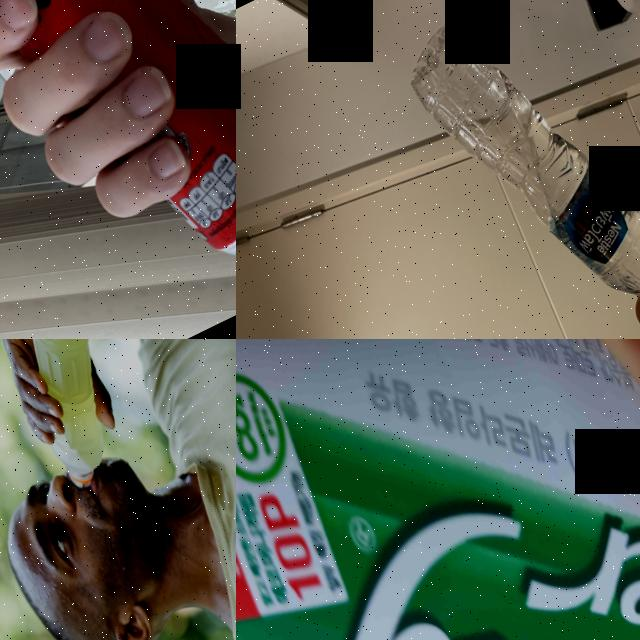bottle: (389, 0, 640, 339), (0, 339, 157, 495)
can: (236, 339, 640, 640), (0, 0, 236, 325)
